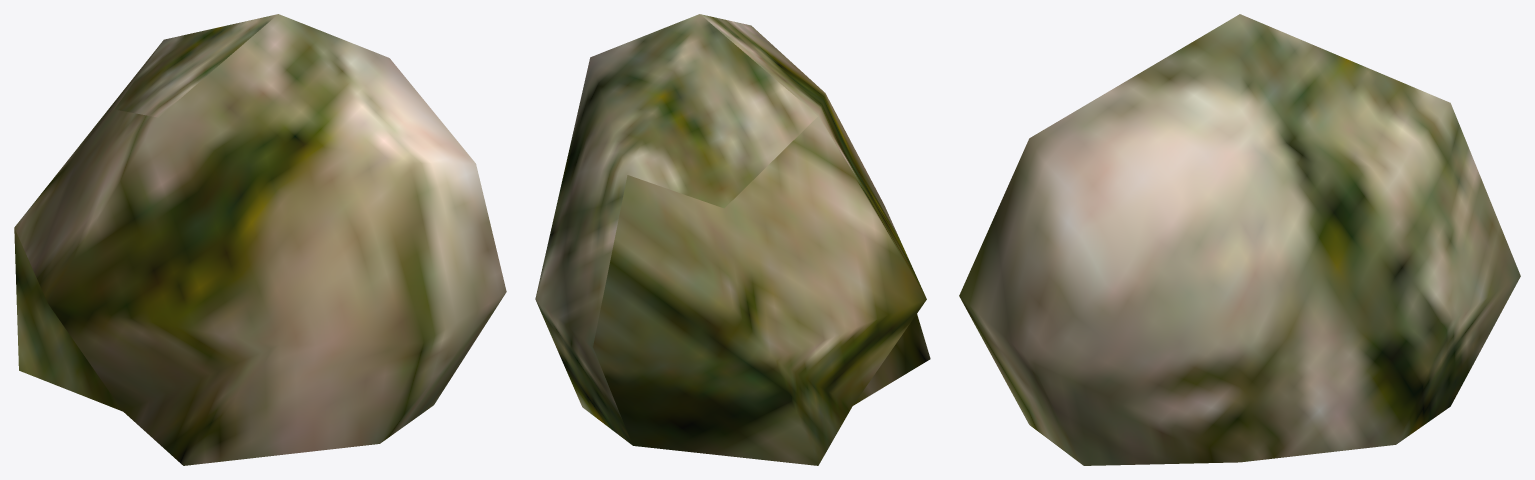
The model's file is shamo_wujian_shitou3.fbx.
3 renders of one model, left to right at view 1: azimuth 30°, elevation 25°; view 2: azimuth 150°, elevation 25°; view 3: azimuth 270°, elevation 25°, orthographic. The views are drawn at different scales.
Parts seen in each view (by area): view 1: pCube60; view 2: pCube60; view 3: pCube60.
Boxes of the visible parts, left/top/right/bottom form: pCube60: left=14, top=14, right=506, bottom=465; pCube60: left=535, top=14, right=930, bottom=465; pCube60: left=959, top=14, right=1520, bottom=465.
Size of the model in its own units: 3.36 by 3.19 by 4.
